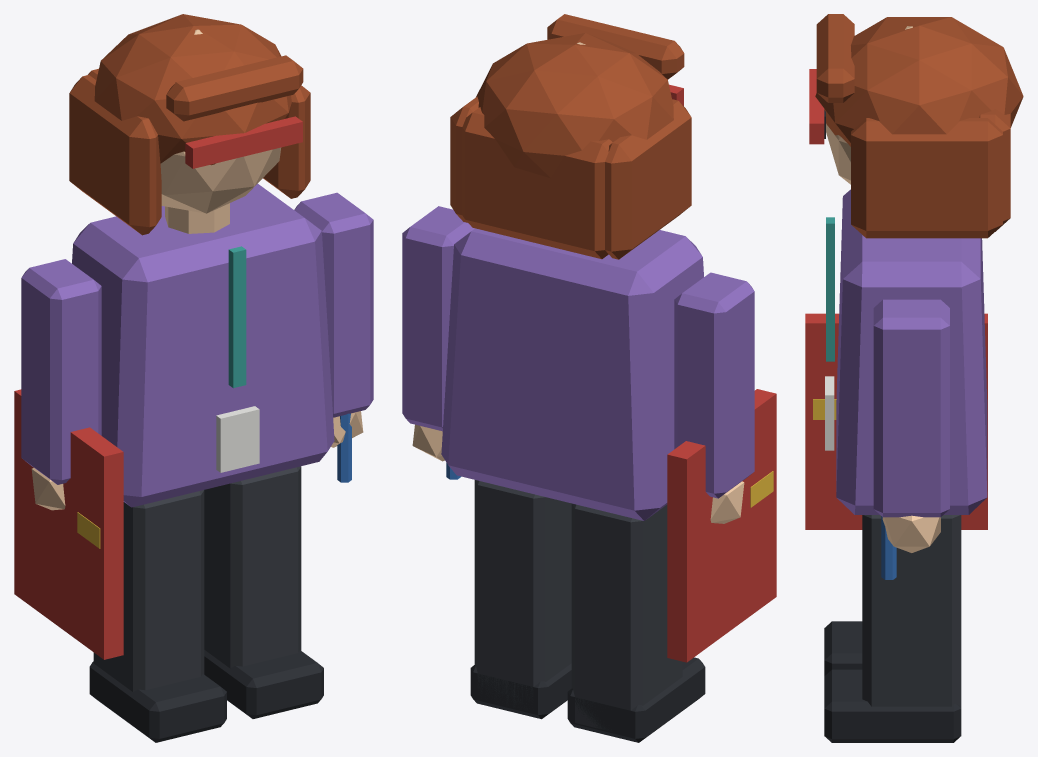
The model's file is hrmanager.glb.
The picture shows the model from 3 angles, left to right: view 1: azimuth 30°, elevation 25°; view 2: azimuth 150°, elevation 25°; view 3: azimuth 270°, elevation 25°; orthographic projection.
Parts seen in each view (by area): view 1: Body, ArmR, LegL, LegR, ArmL, Props; view 2: Body, ArmR, LegR, LegL, ArmL; view 3: Body, LegL, ArmL, ArmR, Props, LegR.
Part boxes in pixels (x1,y1,x2,y2): Body: [69, 14, 334, 507]; ArmR: [14, 259, 123, 659]; LegL: [204, 466, 323, 718]; LegR: [89, 490, 226, 742]; ArmL: [294, 192, 373, 482]; Props: [185, 116, 302, 472]; Body: [441, 14, 703, 520]; ArmR: [667, 272, 776, 662]; LegR: [567, 503, 705, 742]; LegL: [470, 480, 571, 719]; ArmL: [402, 206, 474, 479]; Body: [815, 14, 1023, 514]; LegL: [824, 515, 961, 742]; ArmL: [873, 299, 949, 579]; ArmR: [805, 313, 987, 529]; Props: [809, 69, 834, 450]; LegR: [824, 621, 862, 675].
Size of the model in its own units: 0.7257 by 1.42 by 0.4161.
